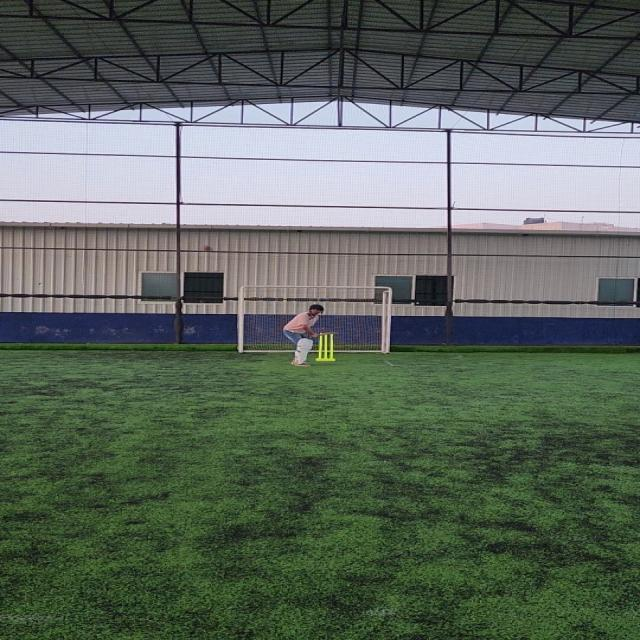ball: (204, 245, 214, 251)
stump: (316, 333, 339, 361)
